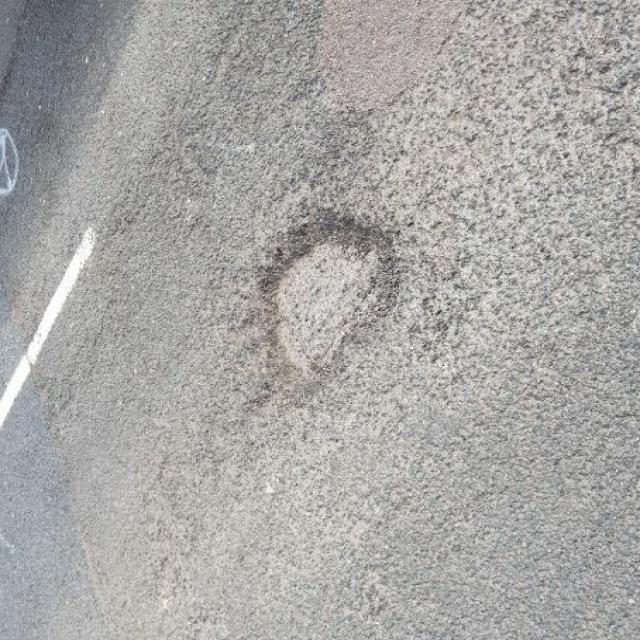pothole: (251, 206, 406, 383)
